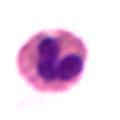monocyte: (12, 25, 88, 96)
